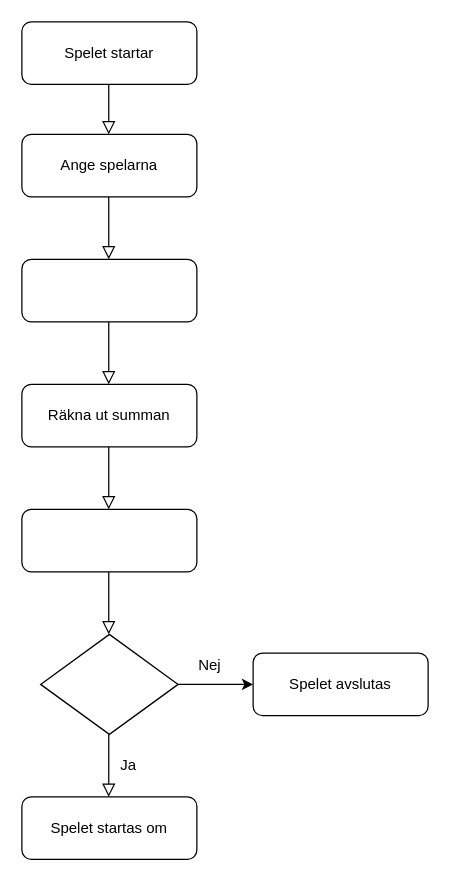
Image size: 450x881. Some labels were removed from this diagram. Each missing label, with the box of its shape:
10 bowlingrundor spelas: (21, 258, 197, 322)
Spela igen?: (39, 633, 178, 734)
Utse en vinnare: (21, 508, 197, 572)
